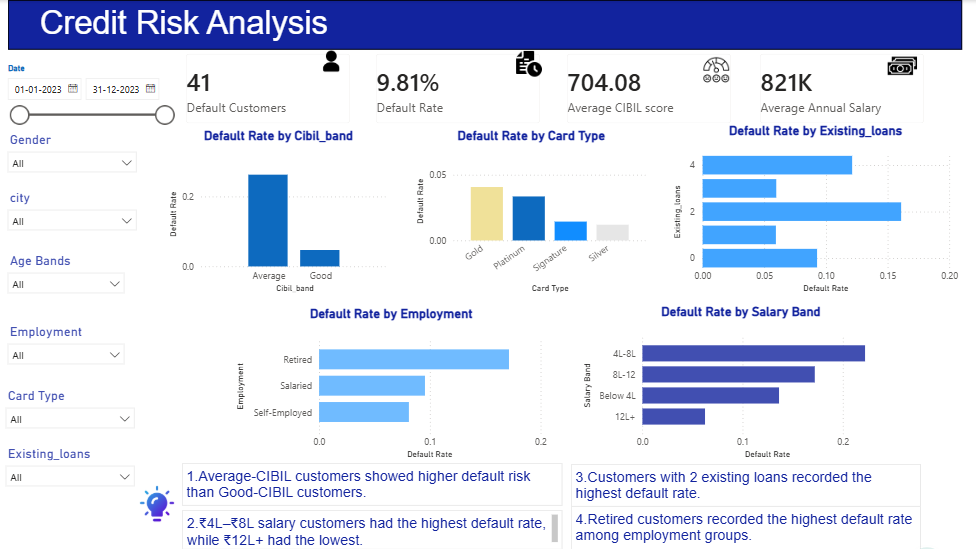

This screenshot's page, from the dashboard's own definition file:
{"tool":"powerbi","page":{"name":"Credit Risk Analysis","canvas":[1280,720],"ordinal":3},"visuals":[{"type":"textbox","box":[13.1,0,1248.9,65.5],"z":0},{"type":"cardVisual","fields":{"Data":["Transactions.Default Customers"]},"box":[240.9,66.1,226,101.5],"z":1000},{"type":"cardVisual","fields":{"Data":["Transactions.Default Rate"]},"box":[490,66.1,226,101.5],"z":2000},{"type":"cardVisual","fields":{"Data":["Avg(Customers.Cibil_score)"]},"box":[739.1,66.1,226,101.5],"z":3000},{"type":"cardVisual","fields":{"Data":["Median(Customers.Annual_salary)"]},"box":[992.3,66.1,226,101.5],"z":4000},{"type":"slicer","title":"DATE","fields":{"Values":["DateTable.Date"]},"box":[0,78.7,240.3,100.1],"z":5000},{"type":"slicer","fields":{"Values":["Customers.Gender"]},"box":[2.9,167.3,188.8,84.4],"z":6000},{"type":"slicer","fields":{"Values":["Customers.city"]},"box":[2.9,243.1,188.8,82.9],"z":7000},{"type":"slicer","fields":{"Values":["Customers.Age Bands"]},"box":[2.6,326,173.1,84.4],"z":8000},{"type":"slicer","fields":{"Values":["Customers.Employment"]},"box":[2.6,418.9,173.1,84.4],"z":9000},{"type":"slicer","fields":{"Values":["Transactions.Card Type"]},"box":[0,502.7,188.8,84.4],"z":10000},{"type":"slicer","fields":{"Values":["Customers.Existing_loans"]},"box":[0,578.1,188.8,84.4],"z":11000},{"type":"clusteredColumnChart","fields":{"Y":["Transactions.Default Rate"],"Category":["Transactions.Card Type"]},"box":[542.3,167.9,312.4,220.2],"z":13000},{"type":"clusteredBarChart","fields":{"Category":["Customers.Existing_loans"],"Y":["Transactions.Default Rate"]},"box":[878.1,161,384,227.1],"z":14000},{"type":"clusteredBarChart","fields":{"Y":["Transactions.Default Rate"],"Category":["Customers.Employment"]},"box":[306.9,400.5,417,205.1],"z":15000},{"type":"clusteredBarChart","fields":{"Y":["Transactions.Default Rate"],"Category":["Customers.Salary Band"]},"box":[761.1,397.8,423.9,207.8],"z":16000},{"type":"image","box":[916.6,72.9,48.2,35.8],"z":17000},{"type":"image","box":[1160.3,64.7,48.2,44],"z":18000},{"type":"image","box":[415.7,66.1,39.9,28.9],"z":19000},{"type":"image","box":[674.4,66.1,41.3,35.8],"z":20000},{"type":"clusteredColumnChart","fields":{"Category":["Customers.Cibil_band"],"Y":["Transactions.Default Rate"]},"box":[218.8,167.9,297.3,220.2],"z":21000},{"type":"textbox","box":[750.1,662,458.3,57.8],"z":21001},{"type":"textbox","box":[750.1,607,458.3,56.4],"z":21002},{"type":"textbox","box":[240.9,605.6,498.2,56.4],"z":21003},{"type":"textbox","box":[240.9,667.5,498.2,52.3],"z":21004},{"type":"image","box":[176.2,634.5,62.9,48.6],"z":21005}]}

Visuals, with their boxes in screenshot pixels (x1, y1, x2, y2), scaled from the page's 1280x720 canvas onto the 976x549 screenshot:
textbox: BBox(10, 0, 962, 50)
cardVisual - Transactions.Default Customers: BBox(184, 50, 356, 128)
cardVisual - Transactions.Default Rate: BBox(374, 50, 546, 128)
cardVisual - Avg(Customers.Cibil_score): BBox(564, 50, 736, 128)
cardVisual - Median(Customers.Annual_salary): BBox(757, 50, 929, 128)
"DATE" slicer: BBox(0, 60, 183, 136)
slicer - Customers.Gender: BBox(2, 128, 146, 192)
slicer - Customers.city: BBox(2, 185, 146, 249)
slicer - Customers.Age Bands: BBox(2, 249, 134, 313)
slicer - Customers.Employment: BBox(2, 319, 134, 384)
slicer - Transactions.Card Type: BBox(0, 383, 144, 448)
slicer - Customers.Existing_loans: BBox(0, 441, 144, 505)
clusteredColumnChart - Transactions.Default Rate x Transactions.Card Type: BBox(414, 128, 652, 296)
clusteredBarChart - Customers.Existing_loans x Transactions.Default Rate: BBox(670, 123, 962, 296)
clusteredBarChart - Transactions.Default Rate x Customers.Employment: BBox(234, 305, 552, 462)
clusteredBarChart - Transactions.Default Rate x Customers.Salary Band: BBox(580, 303, 904, 462)
image: BBox(699, 56, 736, 83)
image: BBox(885, 49, 921, 83)
image: BBox(317, 50, 347, 72)
image: BBox(514, 50, 546, 78)
clusteredColumnChart - Customers.Cibil_band x Transactions.Default Rate: BBox(167, 128, 394, 296)
textbox: BBox(572, 505, 921, 548)
textbox: BBox(572, 463, 921, 506)
textbox: BBox(184, 462, 564, 505)
textbox: BBox(184, 509, 564, 548)
image: BBox(134, 484, 182, 521)
